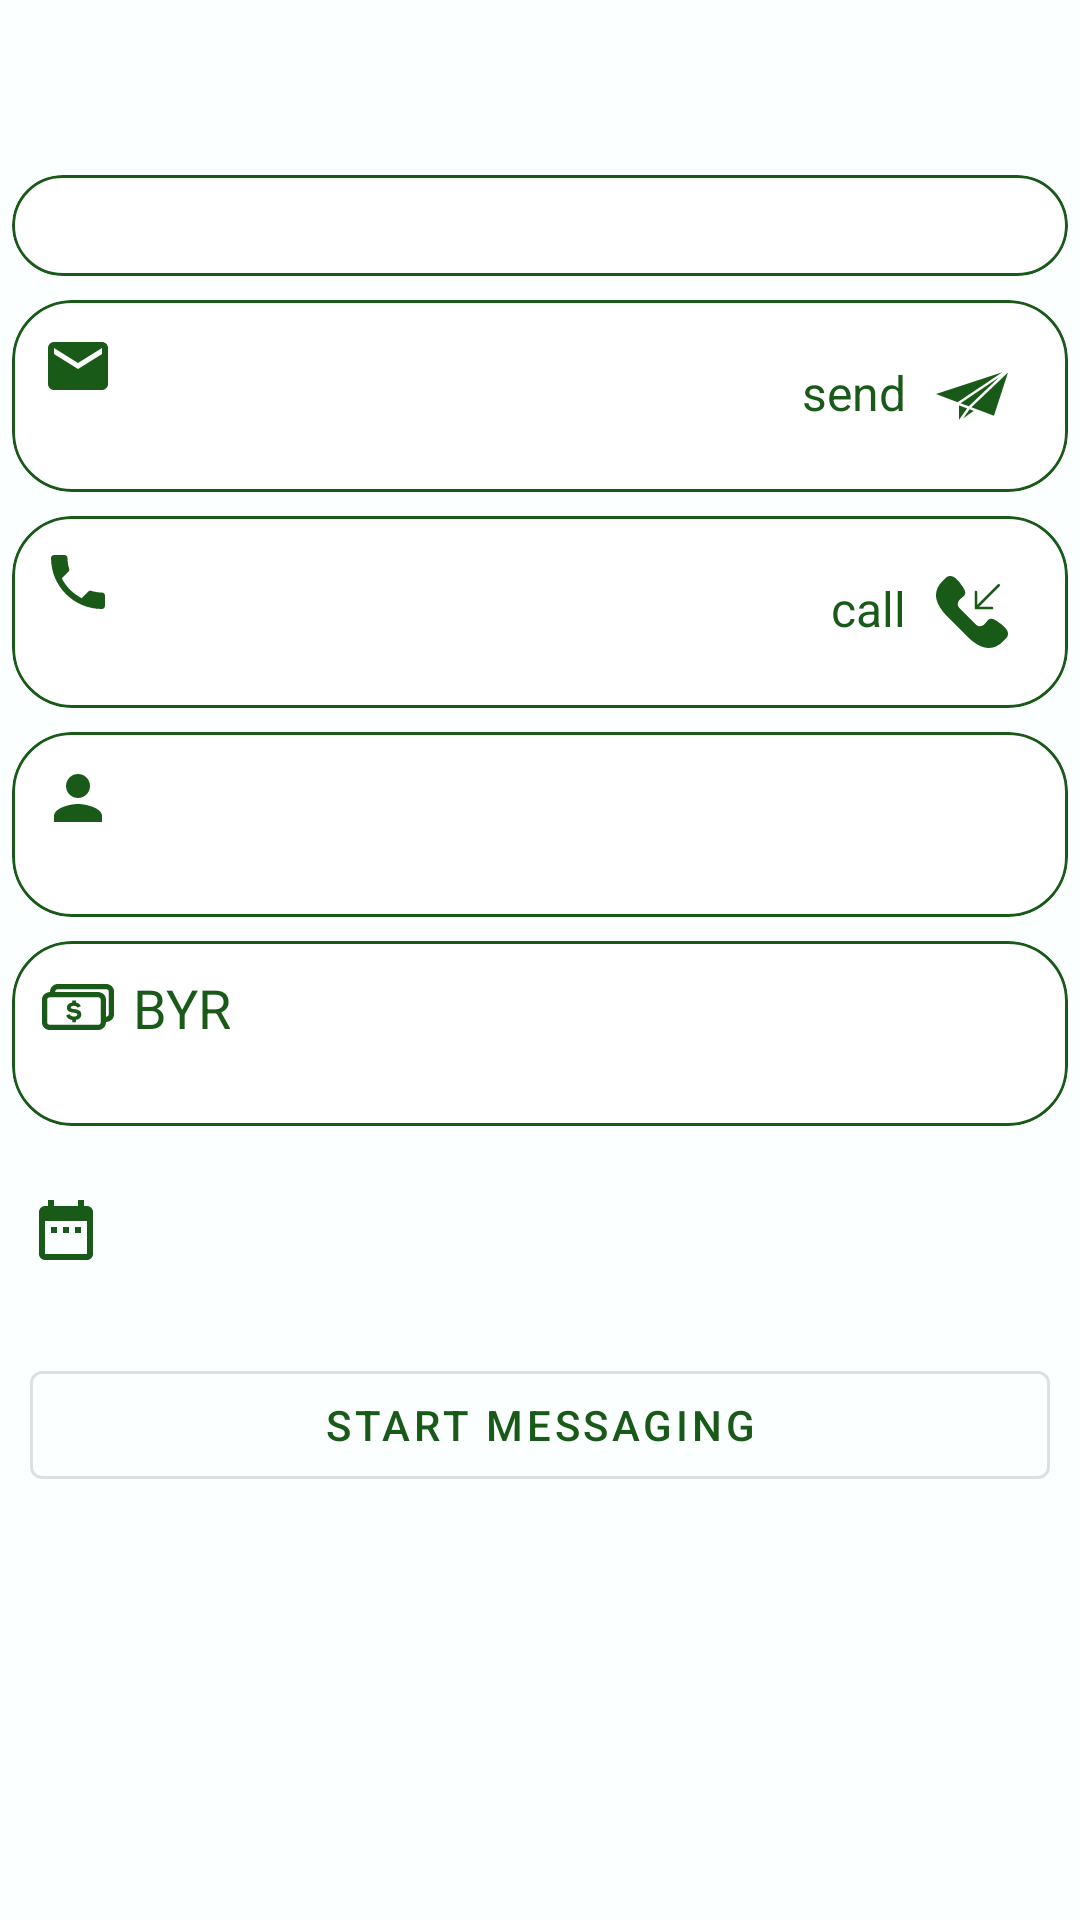

Icons on this 1080w x 1920h Android screen, each with its box as (x1, y1, x2, y2):
date: (39, 1200, 93, 1260)
email: (48, 342, 108, 390)
person: (54, 774, 102, 822)
phone: (51, 555, 105, 609)
